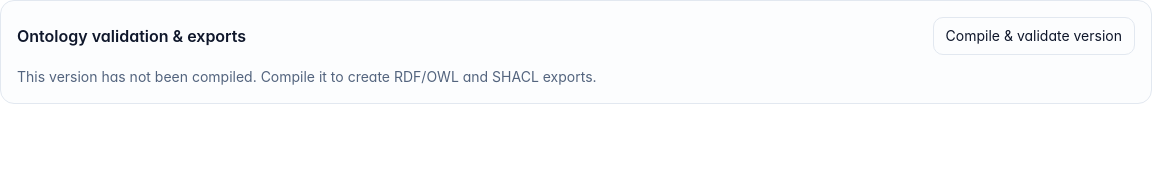
Test: retains the explicit action after a compilation failure without automatic retry
Click the button "Compile & validate version".
click(1034, 36)  # box [933, 17, 1135, 55]
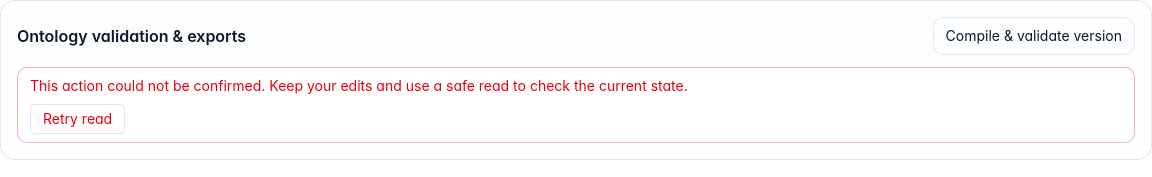
Expected: the message is shown, [17, 67, 1135, 143]
